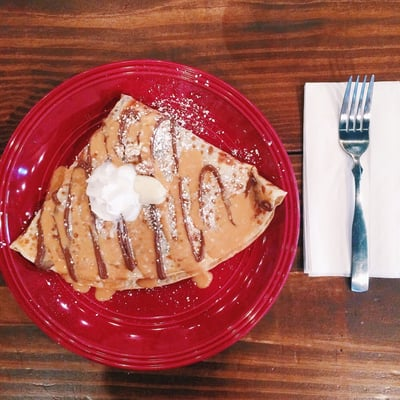sushi: (0, 45, 301, 373)
